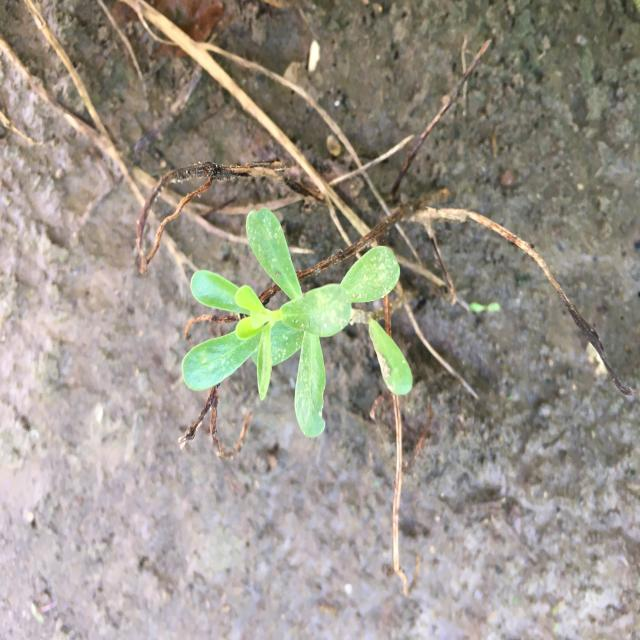Purslane: (179, 206, 423, 442)
